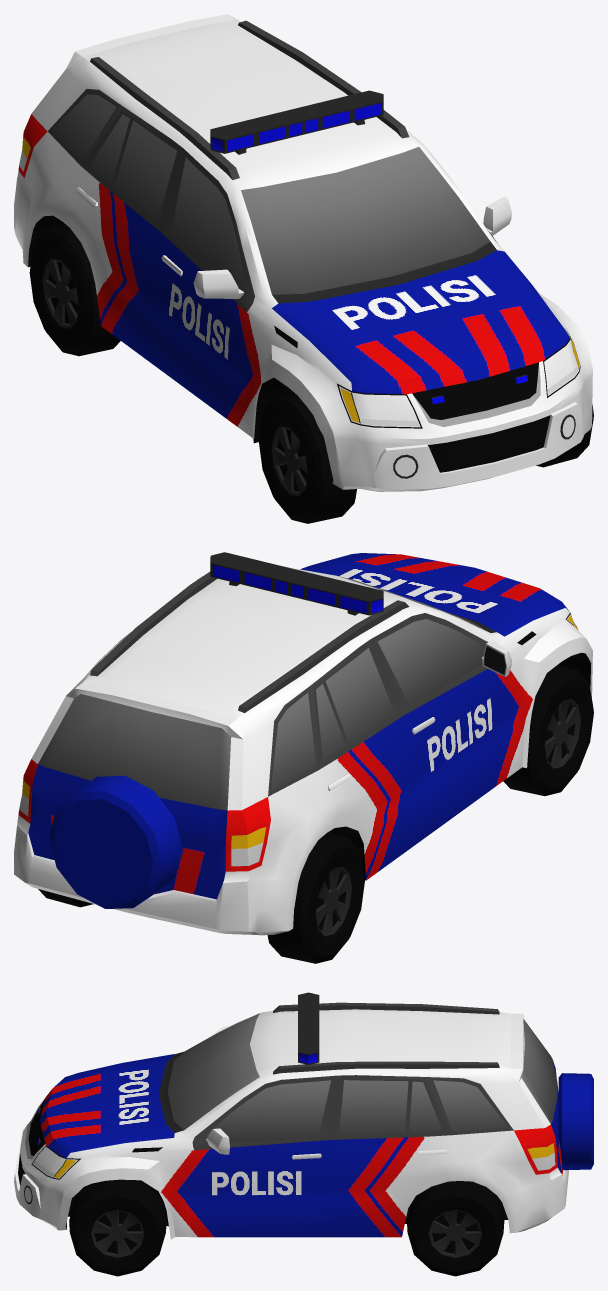
File: car-police.raw.glb
The picture shows the model from 3 angles, top to bottom: view 1: azimuth 30°, elevation 25°; view 2: azimuth 150°, elevation 25°; view 3: azimuth 270°, elevation 25°; orthographic projection. The views are drawn at different scales.
Visible parts, largest first — view 1: body-Object_3:body:0, front-left-Object_3:front-left:5, rear-left-Object_3:rear-left:4, body-Object_3:body:1 (×4), lightbar-Object_3:lightbar:1; view 2: body-Object_3:body:0, body-Object_3:body:2, rear-left-Object_3:rear-left:4, front-left-Object_3:front-left:5, lightbar-Object_3:lightbar:1, body-Object_3:body:1 (×3); view 3: body-Object_3:body:0, front-right-Object_3:front-right:2, rear-right-Object_3:rear-right:3, body-Object_3:body:1 (×3), body-Object_3:body:2, lightbar-Object_3:lightbar:1.
Part boxes in pixels (bbox=[...]): body-Object_3:body:0: bbox=[14, 14, 592, 491]; front-left-Object_3:front-left:5: bbox=[258, 392, 356, 523]; rear-left-Object_3:rear-left:4: bbox=[29, 225, 120, 356]; body-Object_3:body:1 (×4): bbox=[90, 20, 511, 298]; lightbar-Object_3:lightbar:1: bbox=[210, 90, 383, 153]; body-Object_3:body:0: bbox=[14, 553, 592, 935]; body-Object_3:body:2: bbox=[49, 775, 182, 908]; rear-left-Object_3:rear-left:4: bbox=[267, 832, 364, 963]; front-left-Object_3:front-left:5: bbox=[503, 665, 593, 796]; lightbar-Object_3:lightbar:1: bbox=[210, 552, 383, 615]; body-Object_3:body:1 (×3): bbox=[90, 571, 511, 712]; body-Object_3:body:0: bbox=[14, 1009, 568, 1239]; front-right-Object_3:front-right:2: bbox=[69, 1179, 166, 1276]; rear-right-Object_3:rear-right:3: bbox=[407, 1181, 504, 1276]; body-Object_3:body:1 (×3): bbox=[206, 1002, 499, 1154]; body-Object_3:body:2: bbox=[558, 1073, 593, 1170]; lightbar-Object_3:lightbar:1: bbox=[298, 992, 319, 1064].
Size of the model in its own units: 2.14 by 1.82 by 4.65.
1 material, 1 textured.
